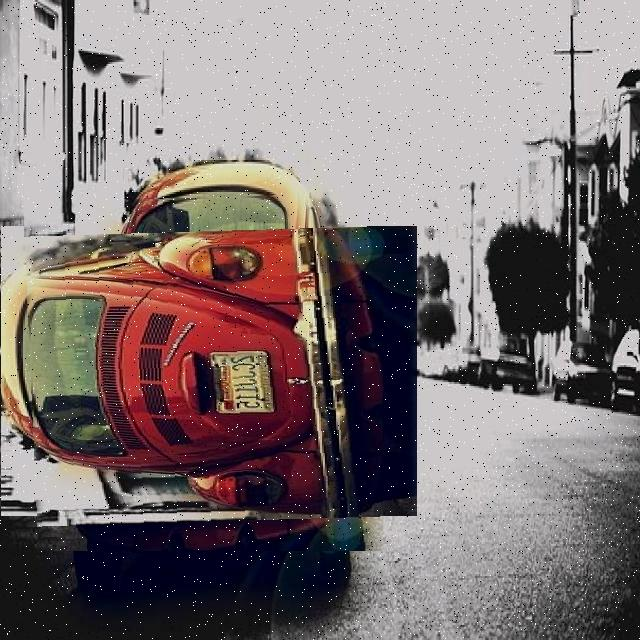car: (24, 193, 384, 552)
